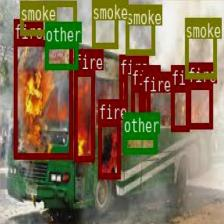fire: (13, 39, 72, 158), (73, 70, 94, 160), (98, 120, 120, 177), (187, 82, 212, 128), (170, 85, 188, 130), (131, 85, 142, 127), (142, 92, 150, 125), (119, 75, 127, 107)
smoke: (19, 0, 76, 35), (184, 17, 216, 77), (125, 4, 154, 54), (92, 0, 118, 48)
